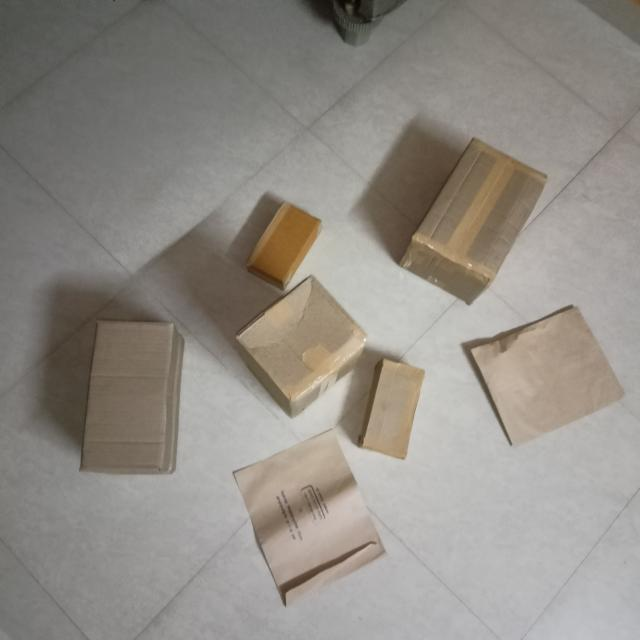box: (238, 428, 387, 605), (474, 301, 628, 449), (419, 138, 555, 281), (244, 271, 375, 398), (83, 322, 181, 476), (254, 200, 322, 288), (365, 358, 423, 454)
